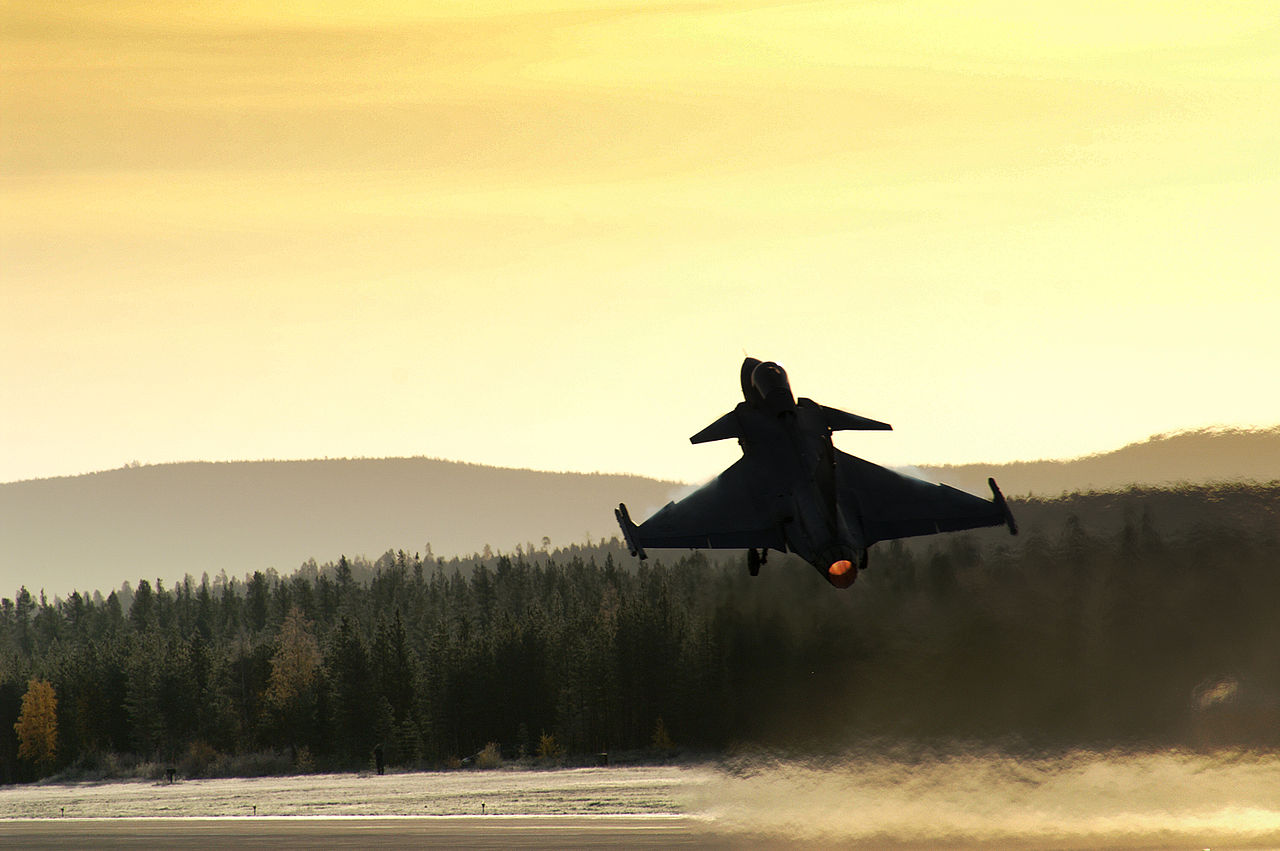JAS39: (614, 346, 1018, 590)
